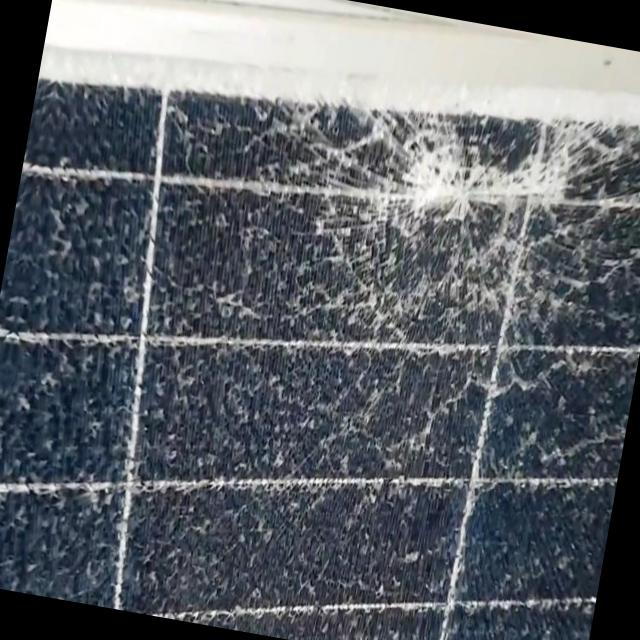faulty: (0, 84, 640, 640)
